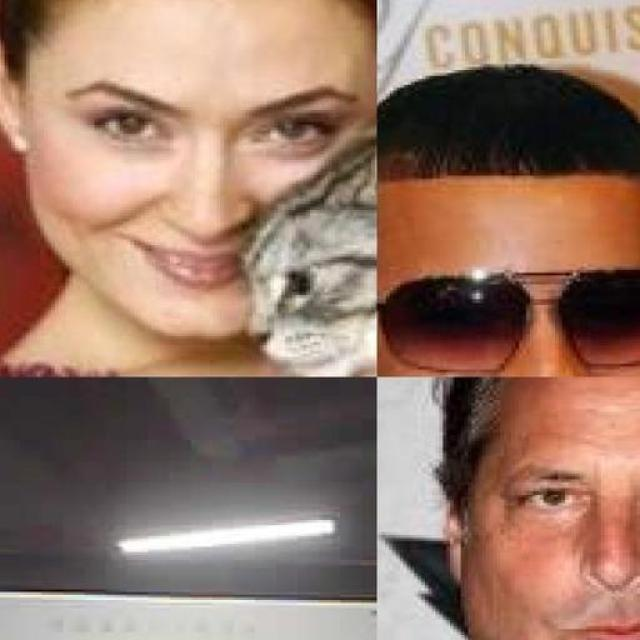bareface: (5, 12, 380, 376)
